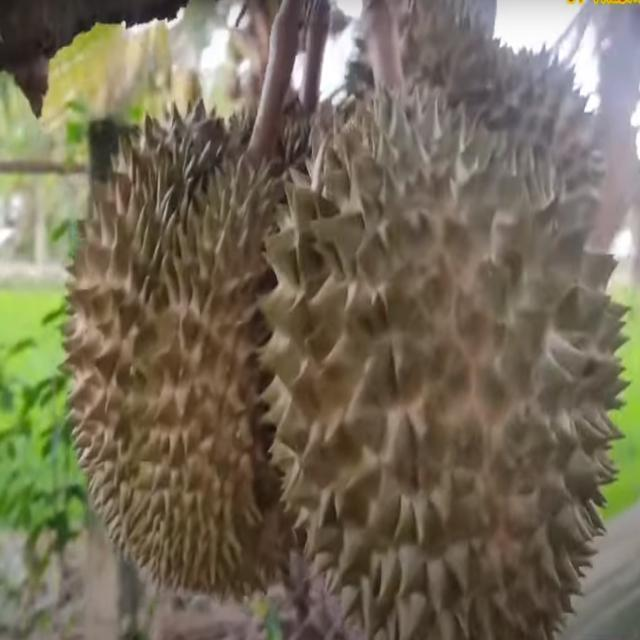mature: (262, 36, 631, 640), (55, 98, 342, 602)
